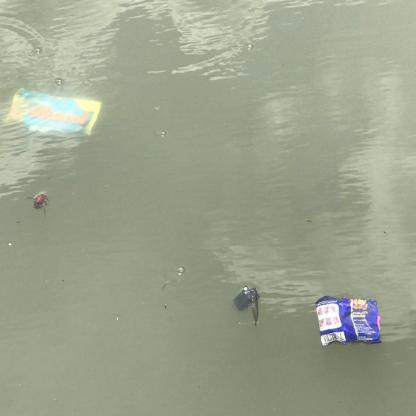Trash: (6, 88, 106, 142), (312, 291, 384, 348)
